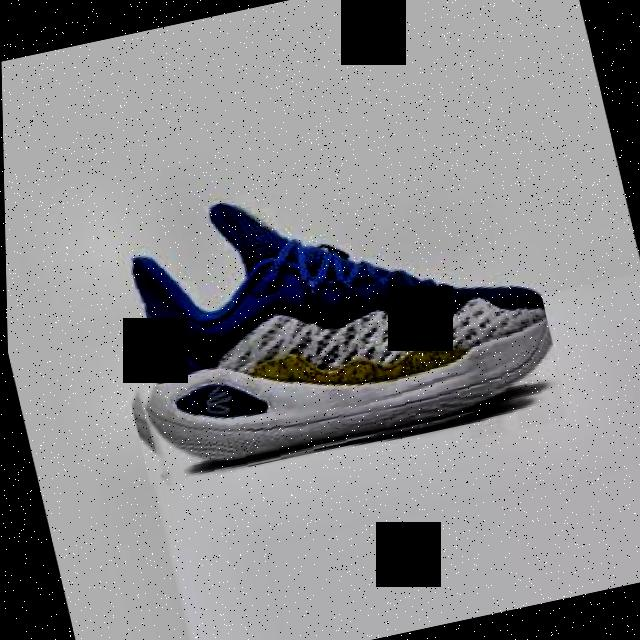shoe: (89, 147, 562, 486), (128, 200, 550, 464)
